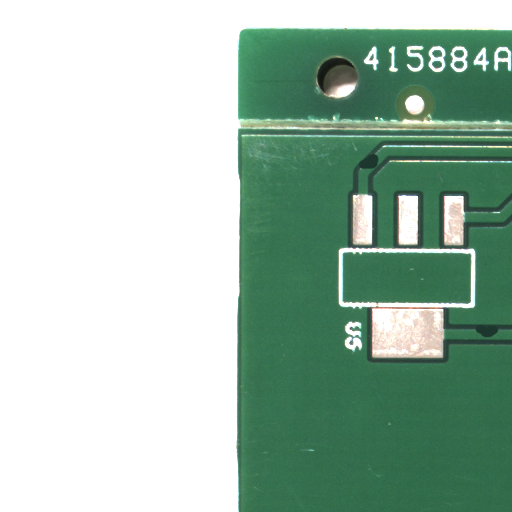Mouse_bite: (367, 160, 394, 179), (487, 329, 512, 347)
